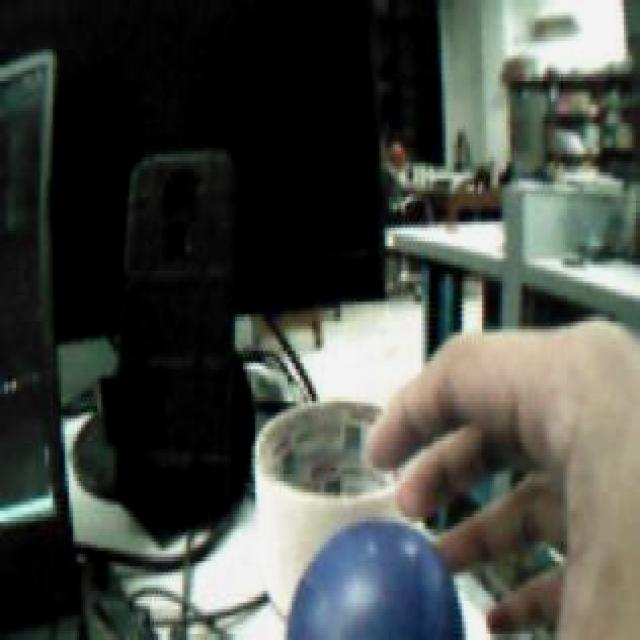BallPurple: (286, 518, 466, 640)
